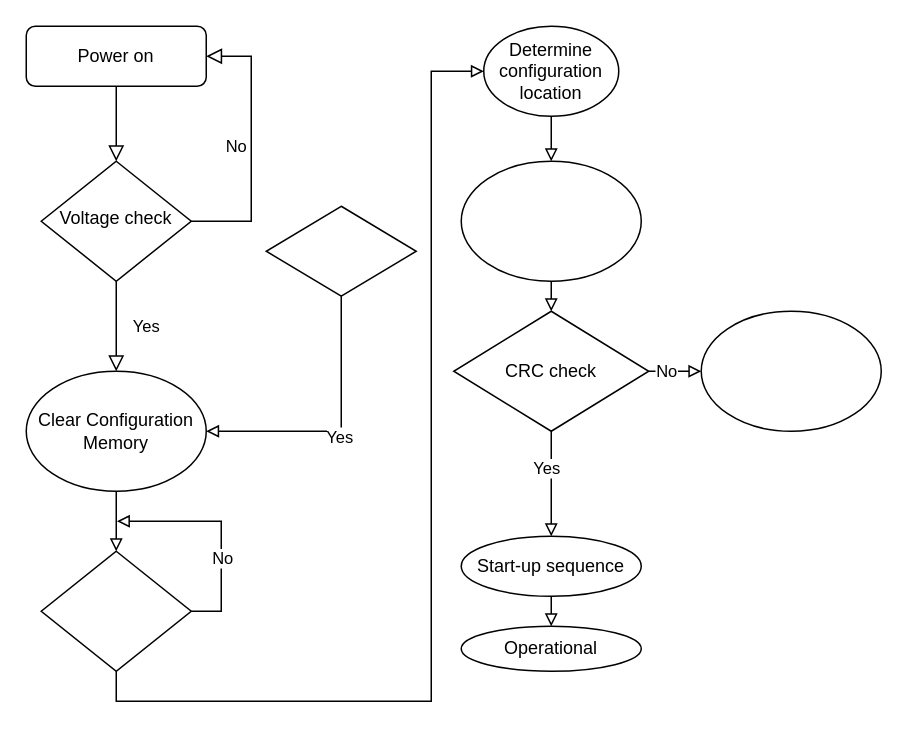
This 908x740 diagram has some shape labels left out. The shapes that lost their labels are listed below. From the top down, each one's centre as x and y in pixels, then its label:
point (550, 220): Load configuration data
point (340, 250): Reset Pin
point (790, 370): Initiation not ready
point (115, 610): Initiation Ready?
